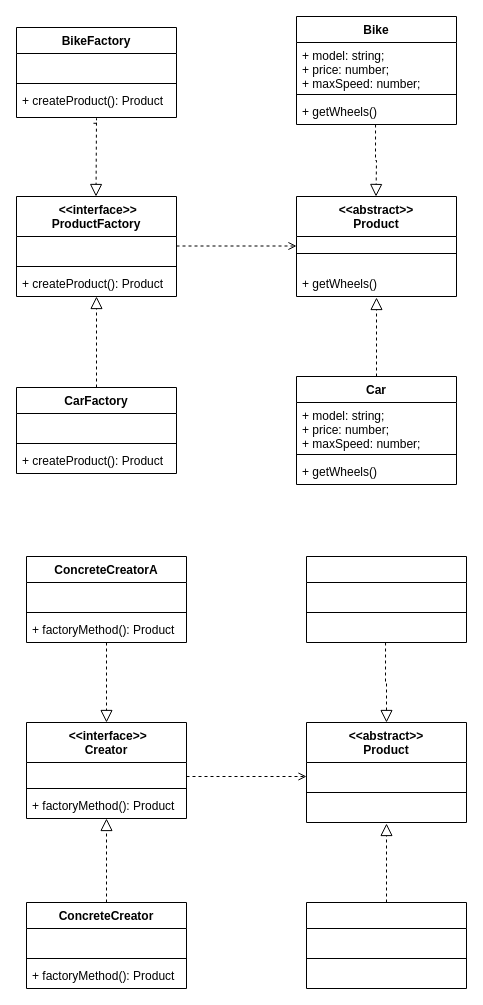
Some shapes in this 483 by 1005 pixel diagram are drawn without their labels. Here are the shapes that lost their labels. From the top down, the centre of each, then its label:
At (x=386, y=599): "ConcreteProductA".
At (x=386, y=945): "ConcreteProduct".
